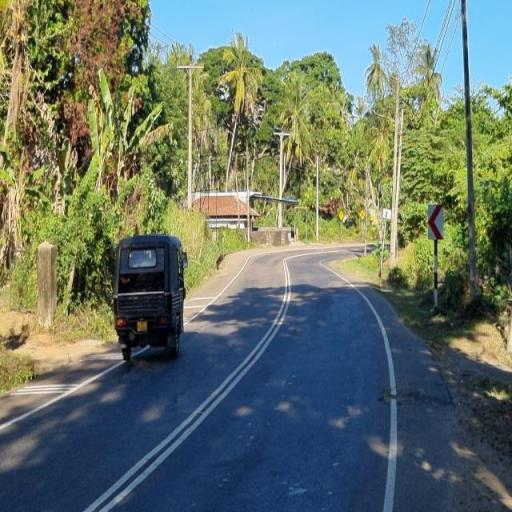double_white_line: (77, 254, 299, 512)
